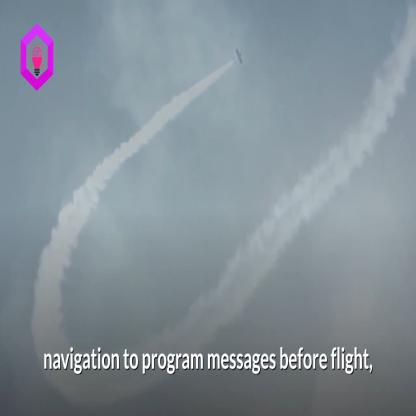plane: (232, 43, 250, 72)
